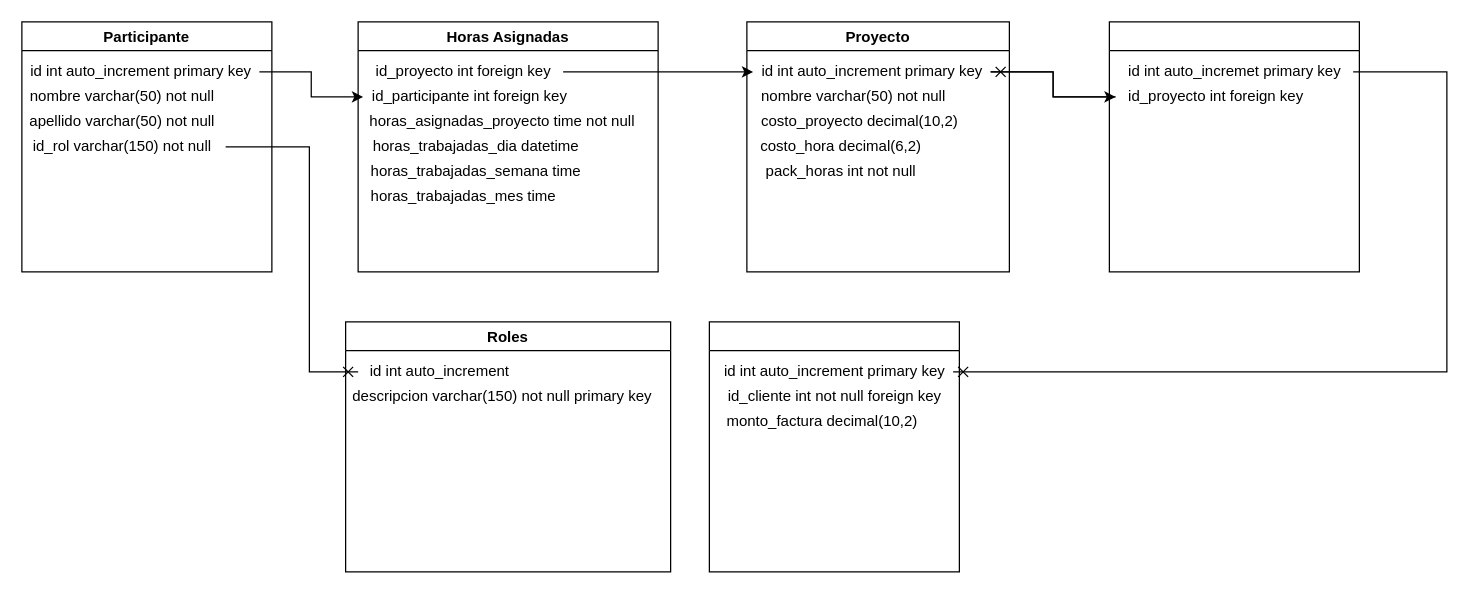
The diagram is 1479 pixels wide and 594 high, and some of its shapes have lost their labels. Here are the shapes that lost their labels. From the top down, the box of each, then its label:
(1108, 21, 1359, 272): Cliente
(708, 321, 959, 572): Facturacion
